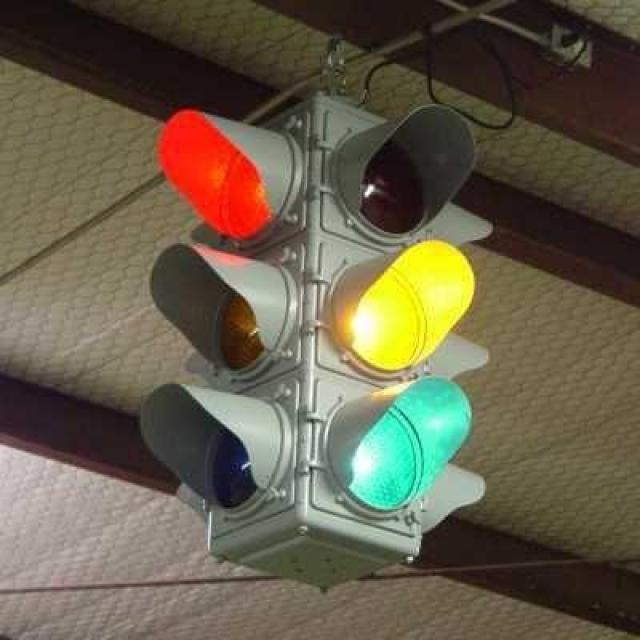Traffic Light -Red-: (131, 85, 312, 568)
Traffic Light -Yellow-: (311, 93, 483, 552)
